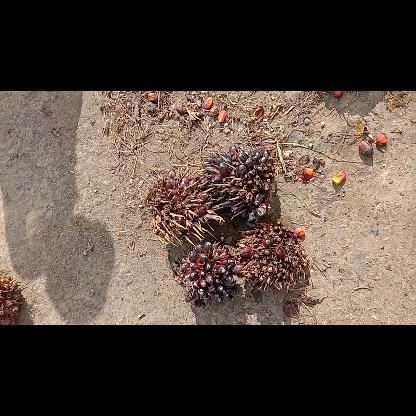TBS abnormal: (144, 170, 222, 246), (202, 146, 275, 220), (234, 224, 310, 292), (170, 242, 235, 306)
